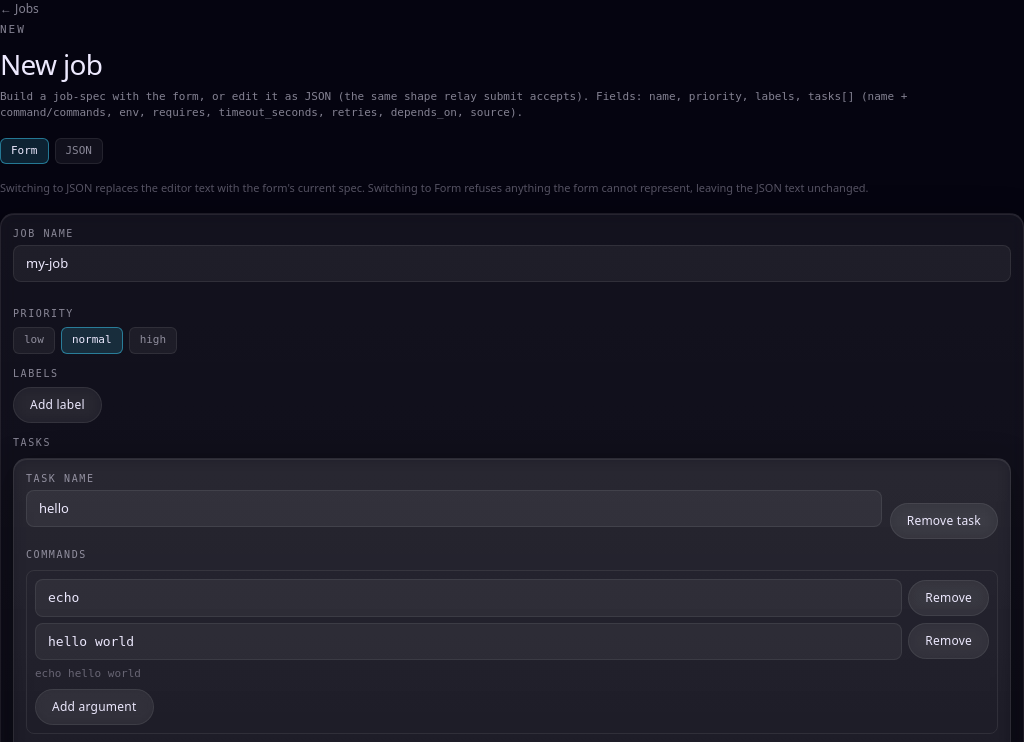
Test: submit button is disabled while the create is pending
This screenshot has width=1024, height=742.
Click the button "JSON". click: coordinates (79, 151)
box: [54,138,103,164]
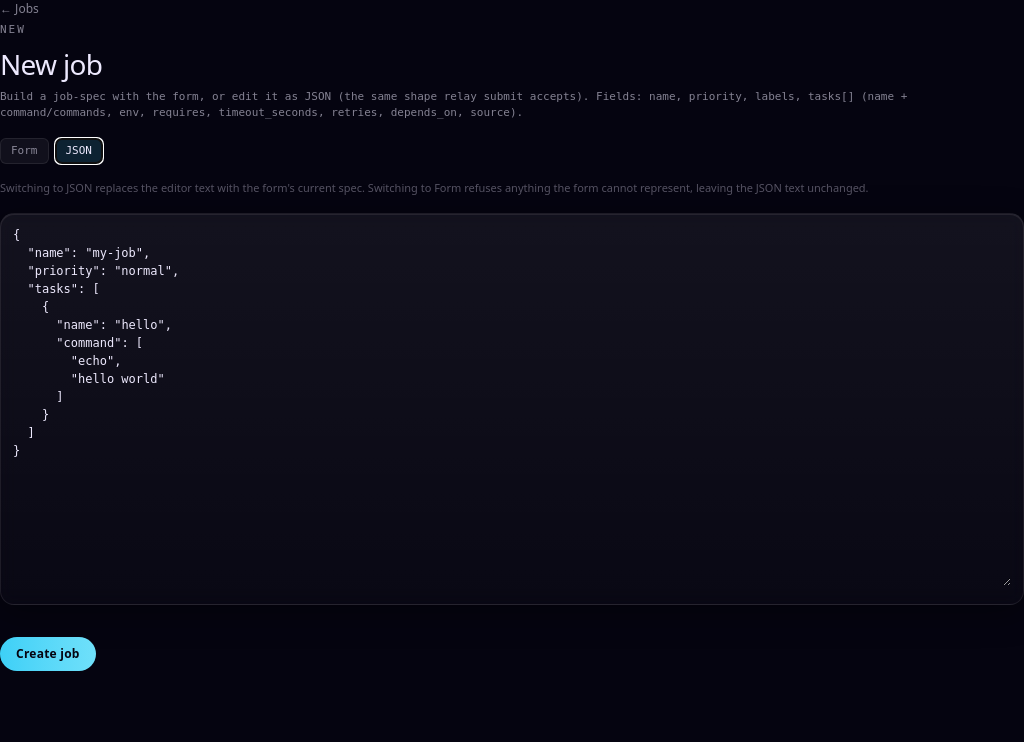
Click the button "Create job". click: coordinates (48, 654)
box: [0,636,96,670]
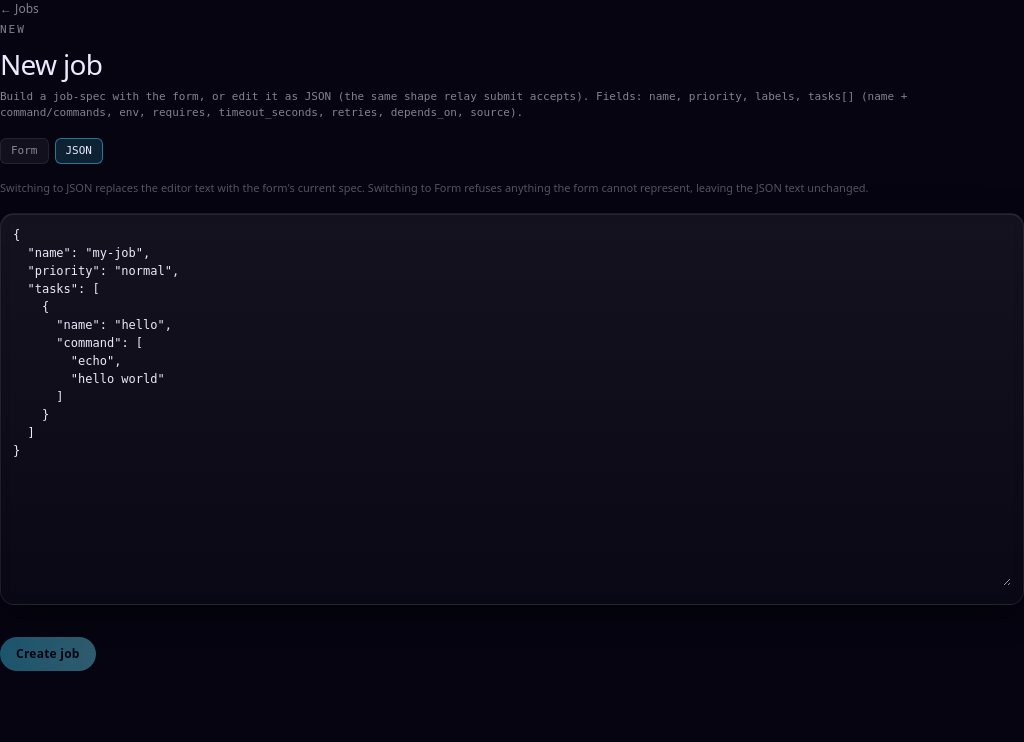
Expected: the button "Create job" is disabled, [0,636,96,670]
